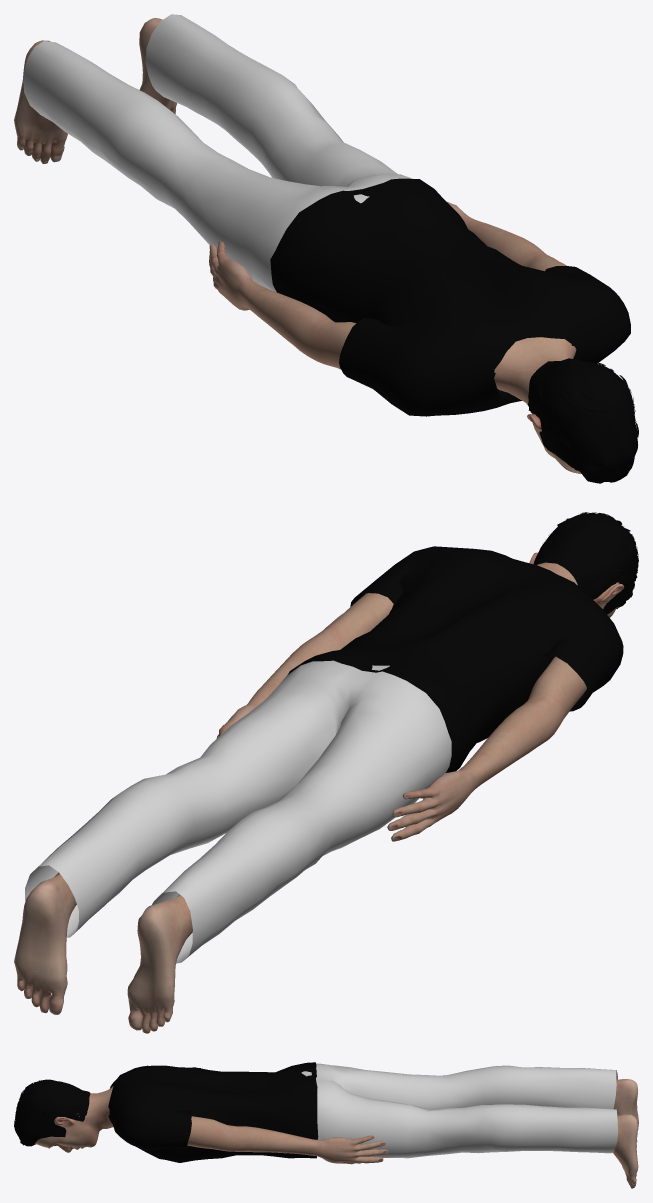
Rendered from standing.obj.
3 renders of one model, top to bottom at view 1: azimuth 30°, elevation 25°; view 2: azimuth 150°, elevation 25°; view 3: azimuth 270°, elevation 25°, orthographic. The views are drawn at different scales.
Parts seen in each view (by area): view 1: standing; view 2: standing; view 3: standing.
Boxes of the visible parts, x1,y1,x2,y2 form: standing: (14,14,638,483); standing: (14,512,638,1033); standing: (14,1062,638,1188).
Bounding box in the file's own units: 0.5442 × 0.3473 × 1.99.
